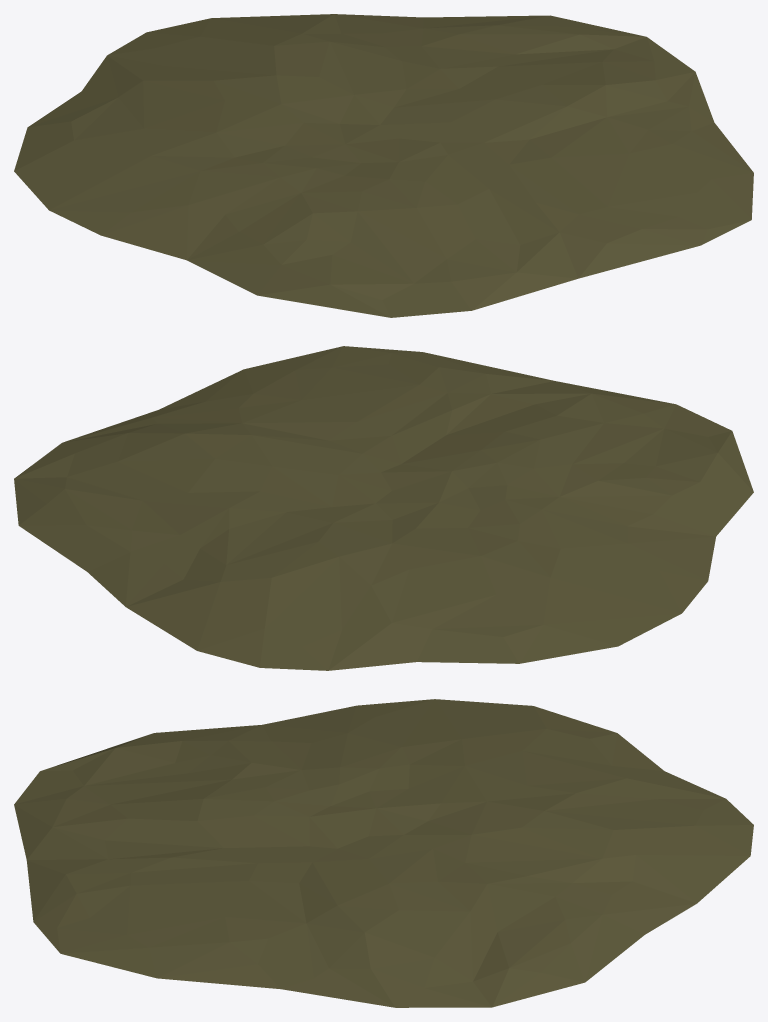
The model's file is crypt_grass_patch.gltf.
3 views of the same model, one above another, from view 1: azimuth 30°, elevation 25°; view 2: azimuth 150°, elevation 25°; view 3: azimuth 270°, elevation 25° (orthographic). The views are drawn at different scales.
Parts seen in each view (by area): view 1: crypt_grass_patch; view 2: crypt_grass_patch; view 3: crypt_grass_patch.
Part boxes in pixels (bbox=[...]): crypt_grass_patch: bbox=[14, 14, 753, 317]; crypt_grass_patch: bbox=[14, 346, 753, 670]; crypt_grass_patch: bbox=[14, 699, 753, 1007].
Bounding box in the file's own units: 9.38 × 0.3803 × 9.5.
Materials: 1 (1 with a texture image).
